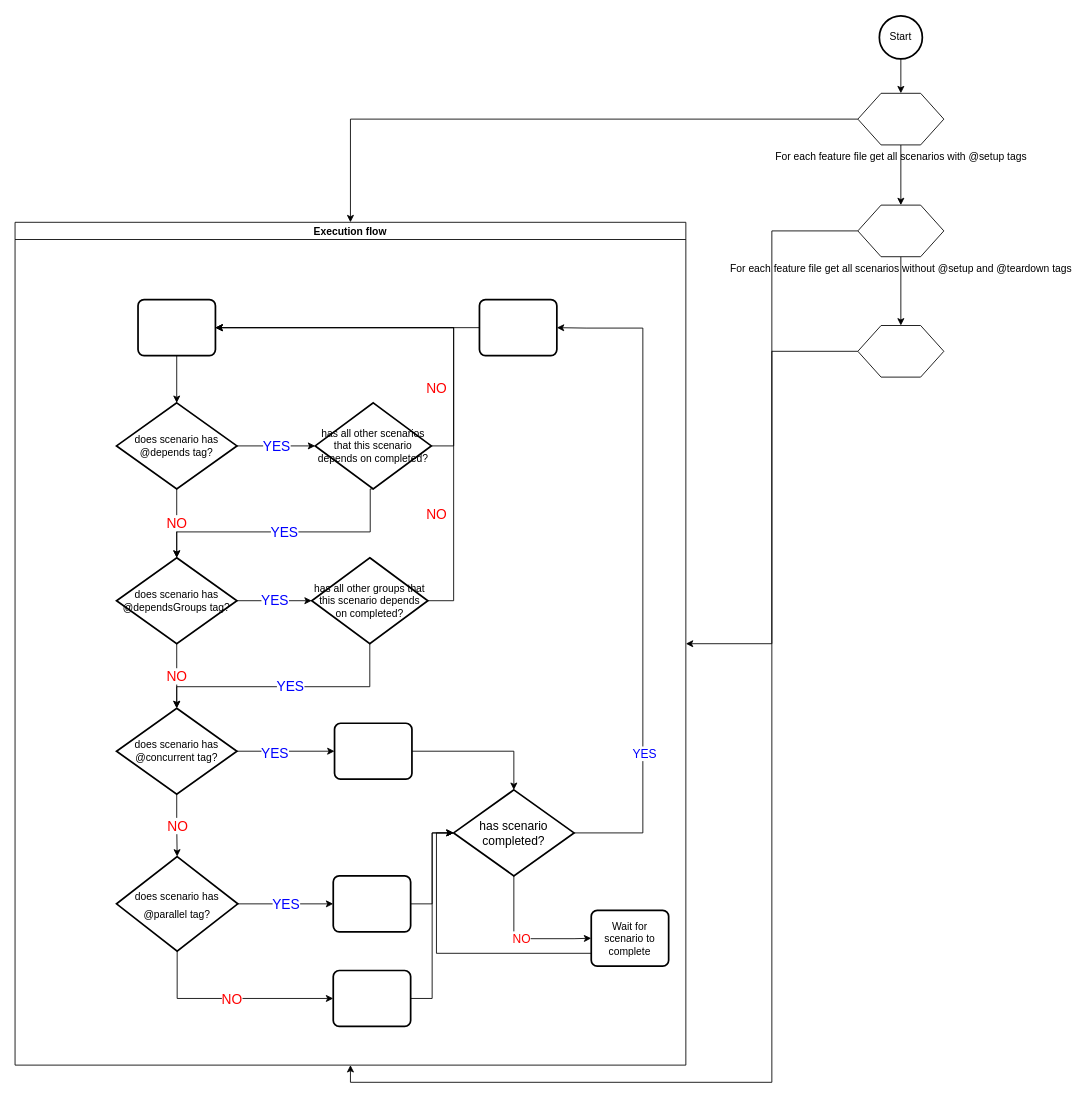
Some shapes in this 1086 by 1104 pixel diagram are drawn without their labels. Here are the shapes that lost their labels. From the top down, the box of each, then its label:
(137, 298, 216, 356): Check next scenario in list
(478, 298, 557, 356): Remove scenario from list
(857, 325, 944, 377): For each feature file get all scenarios with @teardown tags
(333, 722, 412, 780): Schedule scenario to run in another thread
(332, 875, 411, 932): Schedule scenario to run in another process
(332, 969, 411, 1027): Schedule scenario to run in same thread and process
